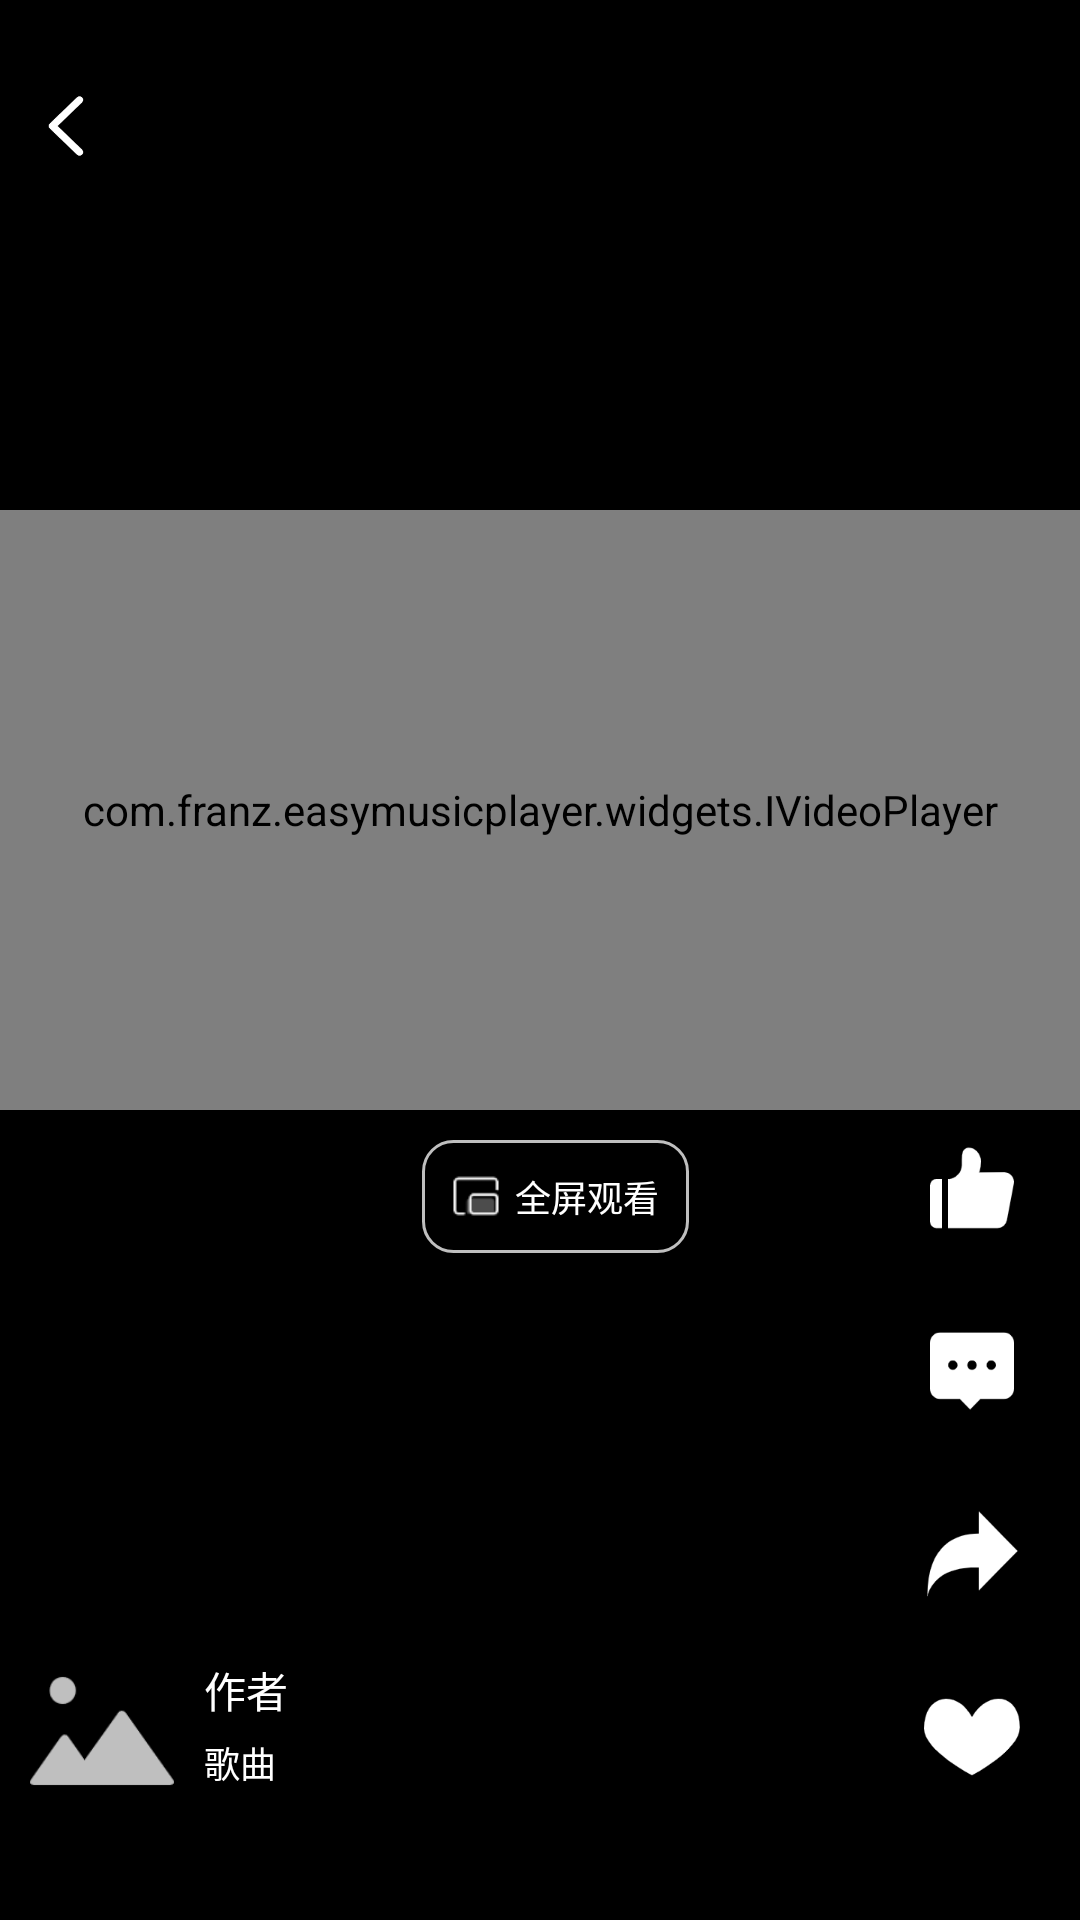

Screen size 1080x1920. Icon name, then its center in pixels as (x,y):
back: (66,126)
comment: (972,1371)
likes no: (972,1188)
loves no: (972,1737)
share: (972,1553)
